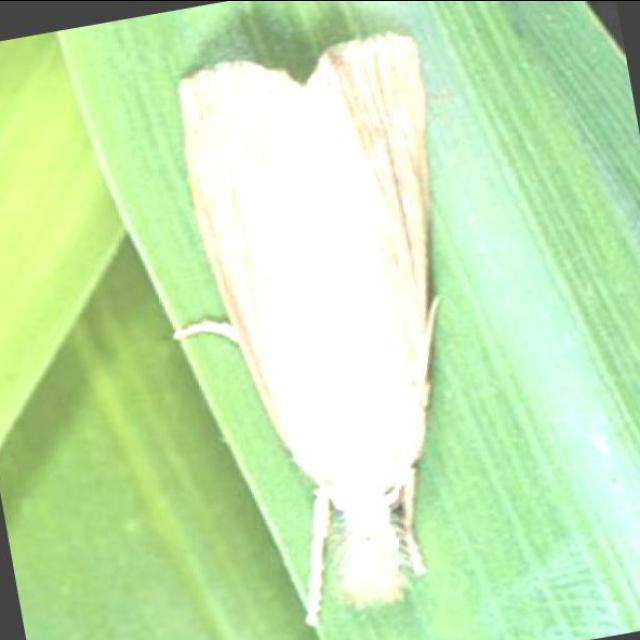stem borer: (175, 32, 438, 624)
